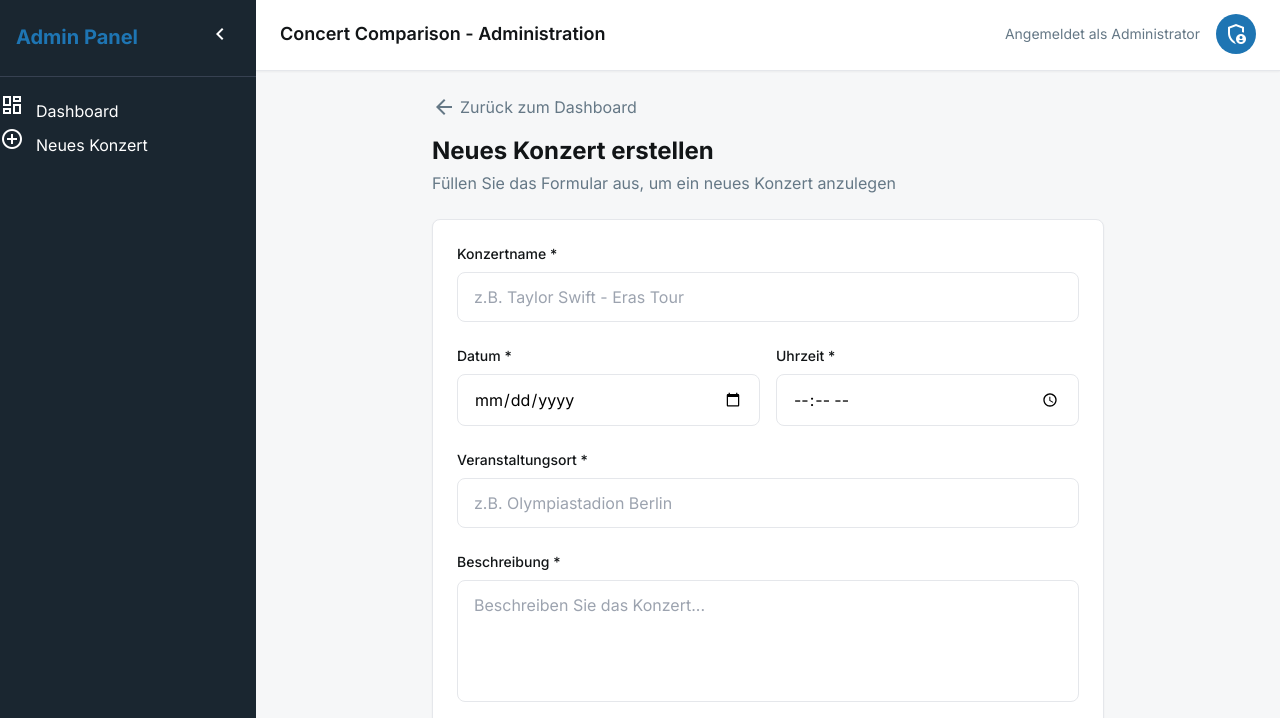
CreateConcertPage › validiert Mindestlänge für Name
The image size is (1280, 718).
Expected: the heading "Neues Konzert erstellen" is shown, left=432, top=136, right=714, bottom=165
Gib zu kurzen Namen ein
Type "AB" into the field labelled "Konzertname *".
click(768, 297); type("AB")  # box left=457, top=272, right=1079, bottom=322
(page scrolled)
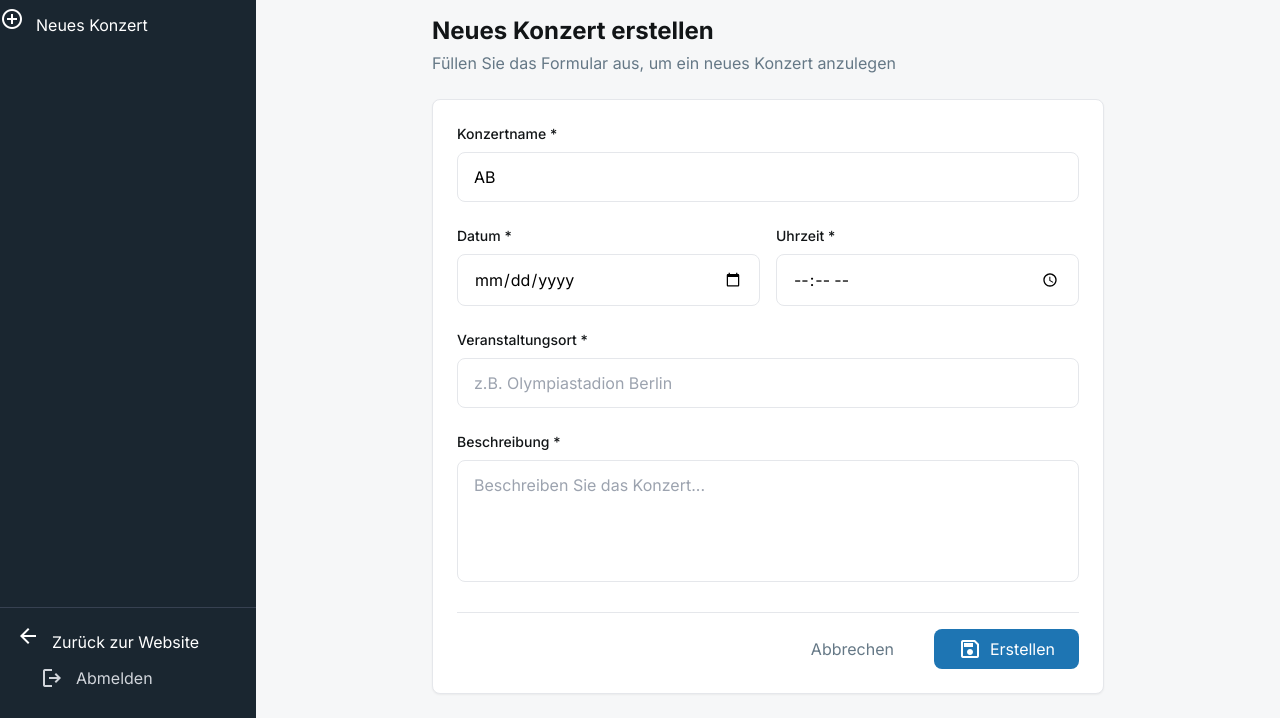
Click the button "Erstellen".
click(1006, 649)  # box left=934, top=629, right=1079, bottom=669
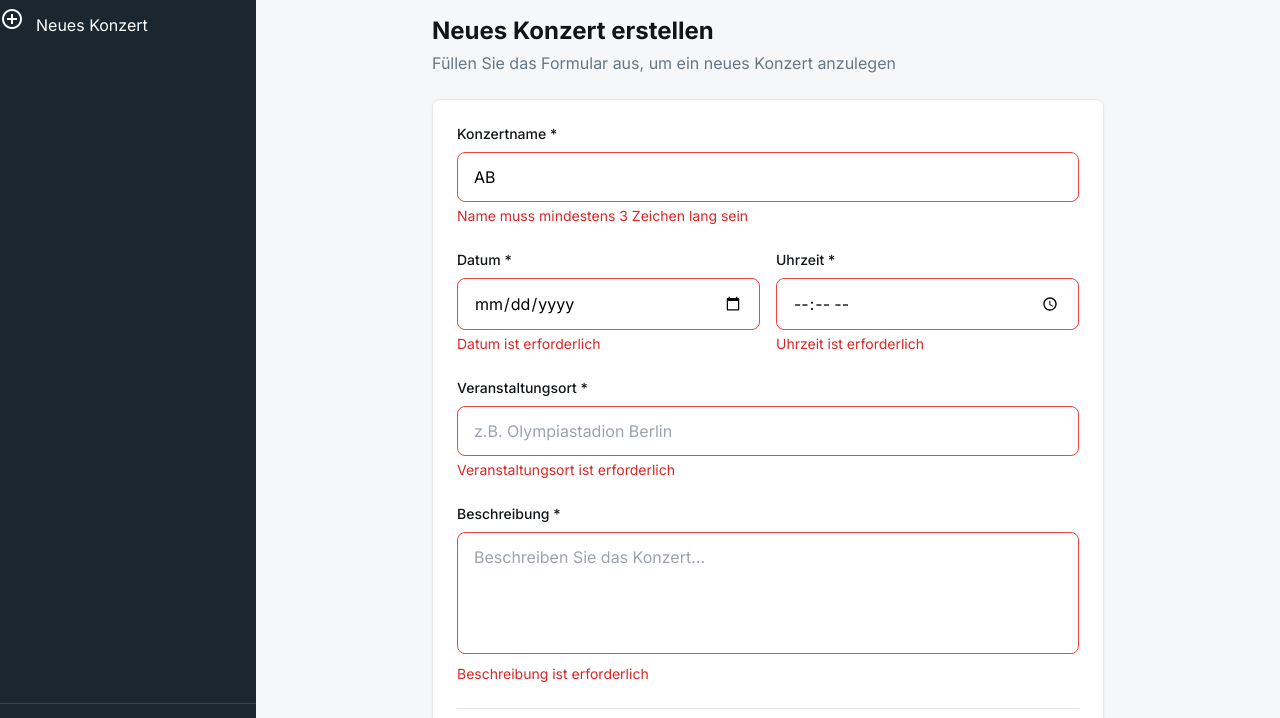
Now the text "Name muss mindestens 3 Zeichen lang sein" is shown, box left=457, top=207, right=748, bottom=224
